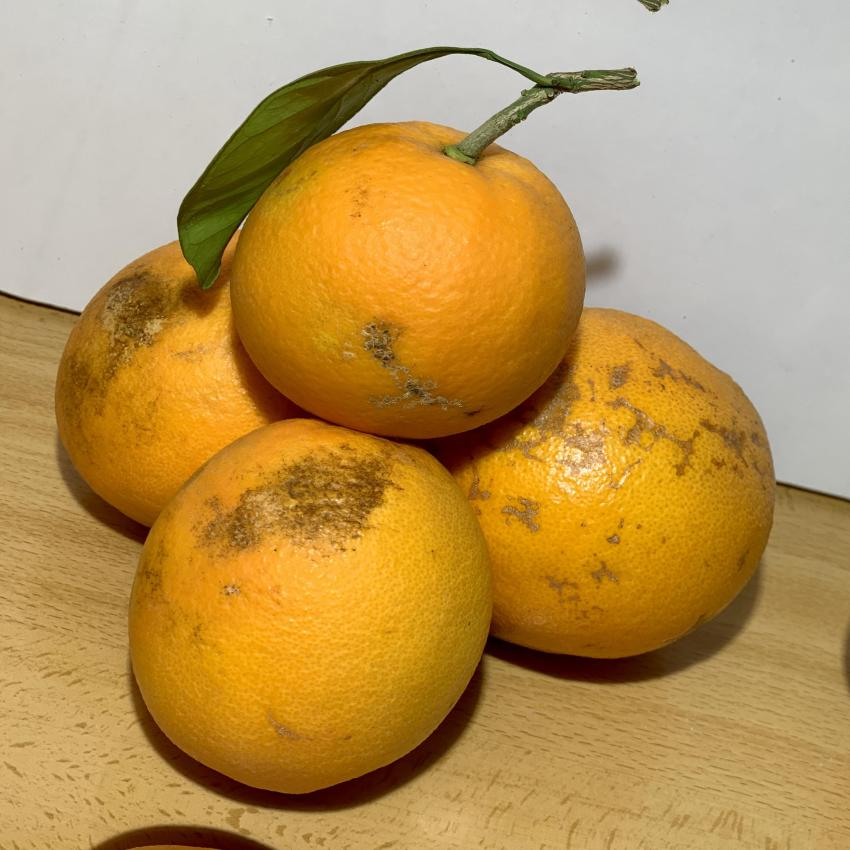Mal estado: (103, 409, 506, 817), (418, 278, 778, 697), (219, 95, 621, 458), (51, 213, 313, 513)
